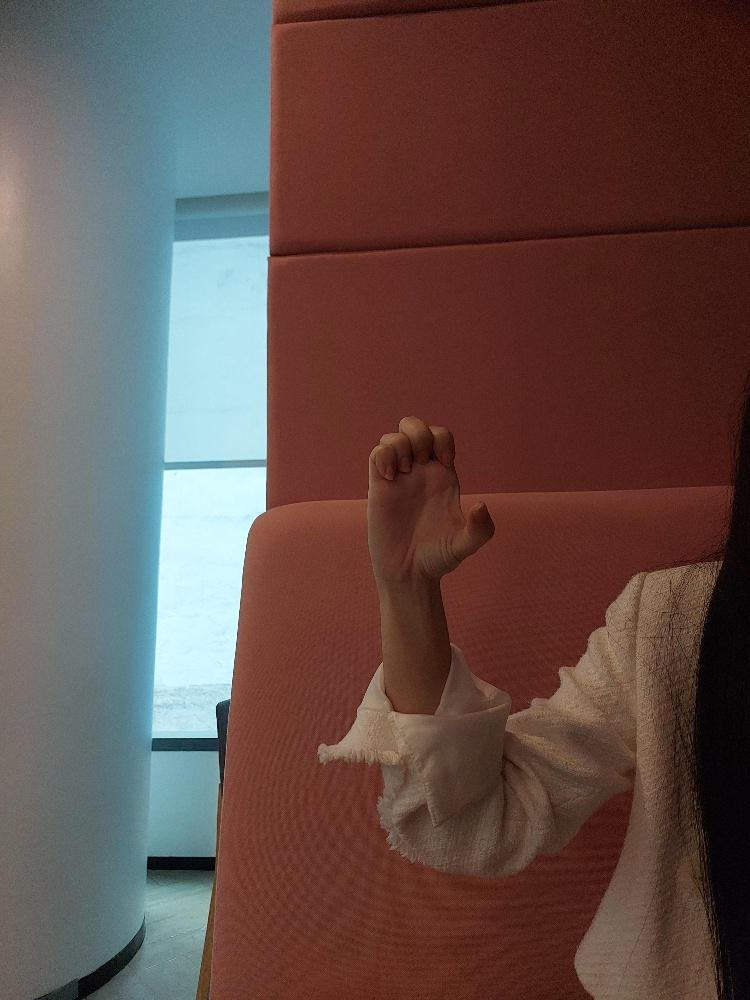e: (366, 415, 495, 581)
